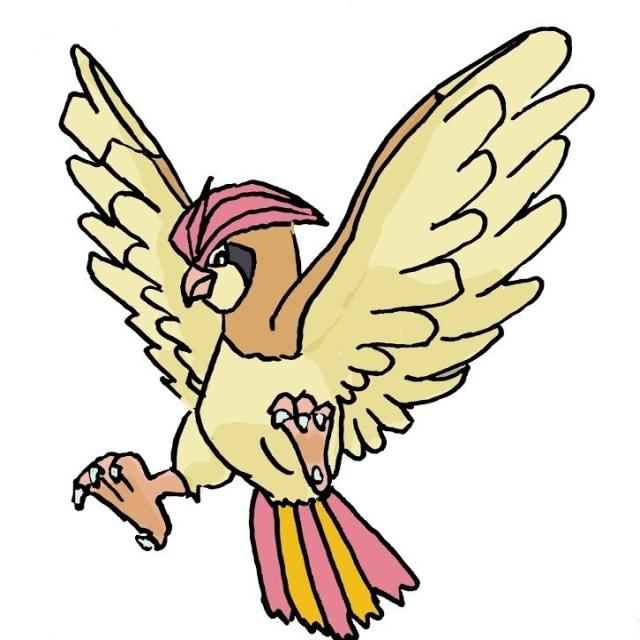Pidgeotto: (61, 34, 420, 604)
